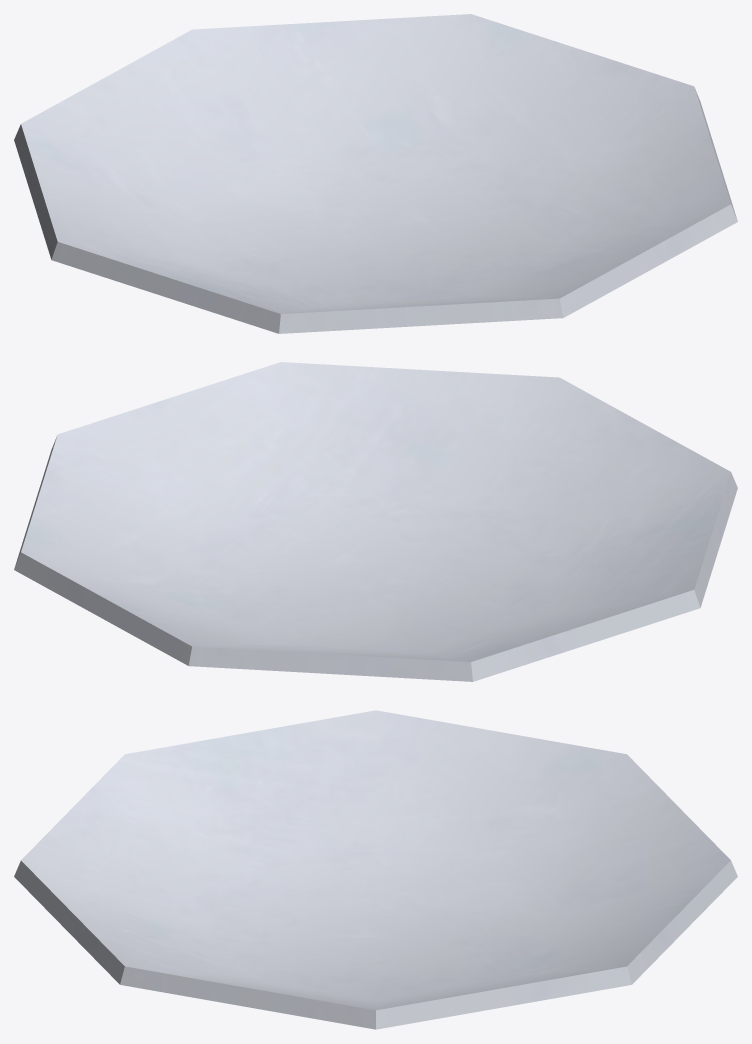
The model's file is Dish-col.glb.
3 renders of one model, top to bottom at view 1: azimuth 30°, elevation 25°; view 2: azimuth 150°, elevation 25°; view 3: azimuth 270°, elevation 25°, orthographic. The views are drawn at different scales.
Parts seen in each view (by area): view 1: Dish-col; view 2: Dish-col; view 3: Dish-col.
Part boxes in pixels (box(x1,y1,x2,y2)): Dish-col: box(14, 14, 737, 333); Dish-col: box(14, 362, 737, 681); Dish-col: box(14, 710, 737, 1029).
Bounding box in the file's own units: 0.4222 × 0.0482 × 0.4222.
Materials: 1 (1 with a texture image).
